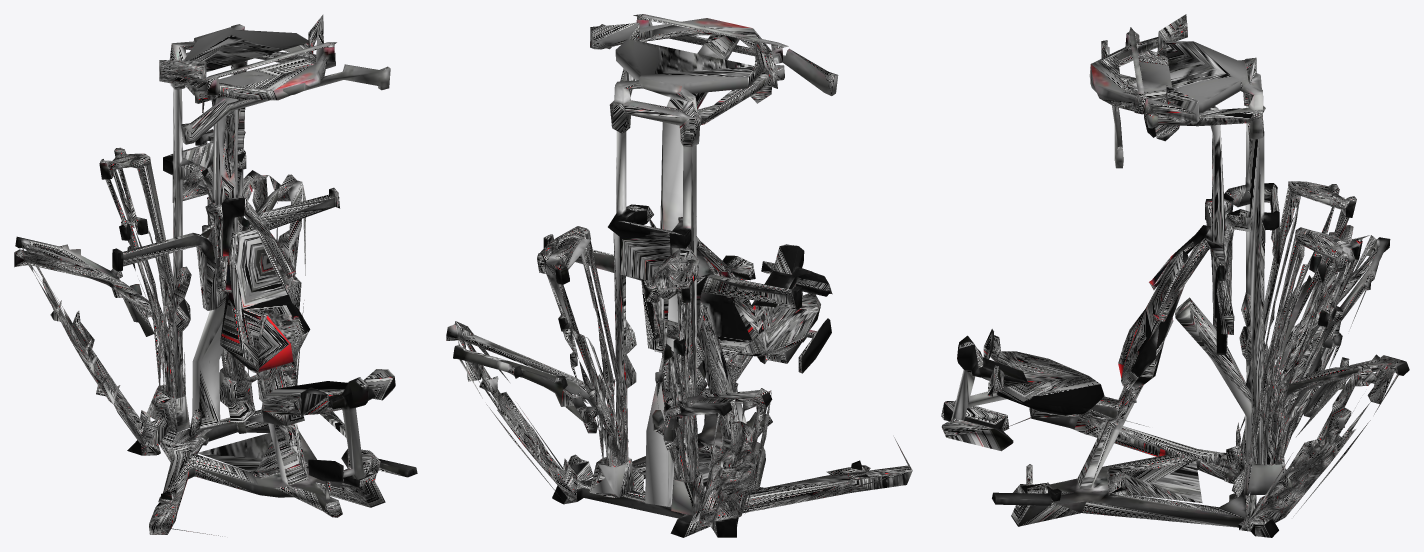
The model's file is k1-bowflex-xtreme-2se-phone.glb.
The picture shows the model from 3 angles, left to right: view 1: azimuth 30°, elevation 25°; view 2: azimuth 150°, elevation 25°; view 3: azimuth 270°, elevation 25°; orthographic projection. The views are drawn at different scales.
Parts seen in each view (by area): view 1: material; view 2: material; view 3: material.
Boxes of the visible parts, x1,y1,x2,y2 form: material: (14,14,417,536); material: (446,14,912,537); material: (941,14,1409,537).
Size of the model in its own units: 0.6695 by 0.9114 by 0.8825.
Materials: 1 (1 with a texture image).
